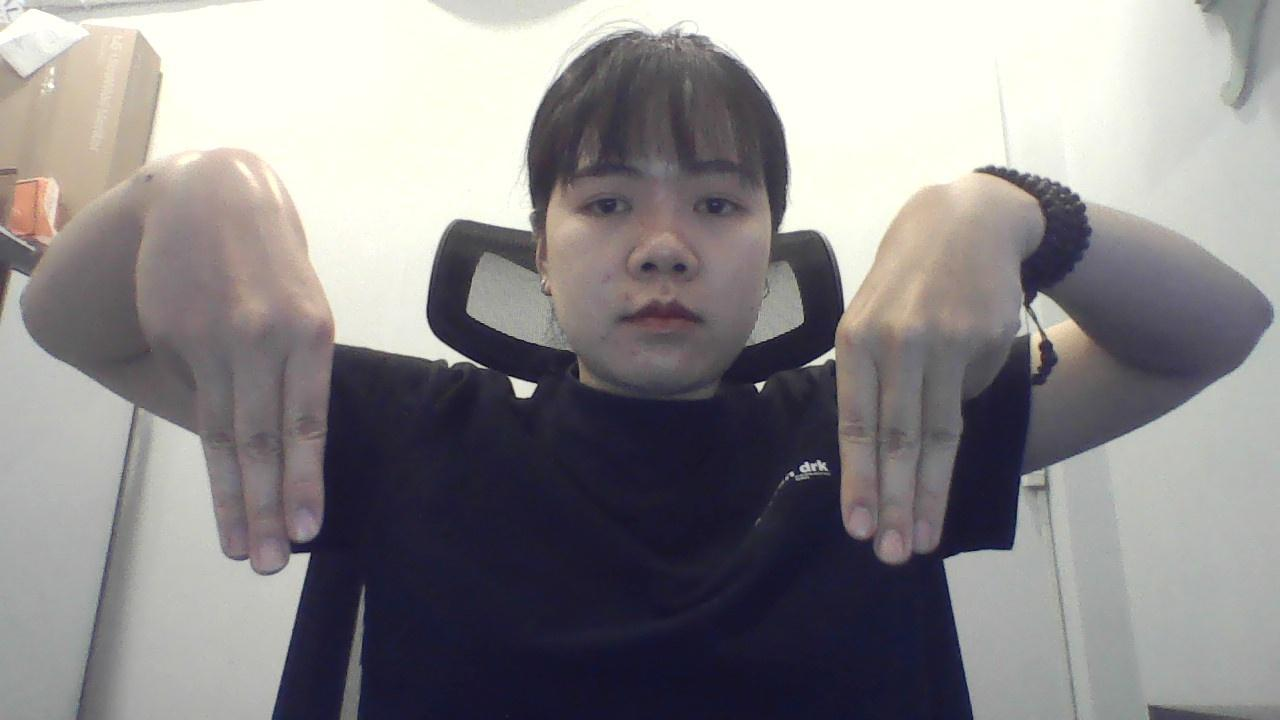M: (134, 157, 349, 577), (820, 160, 1033, 568)
